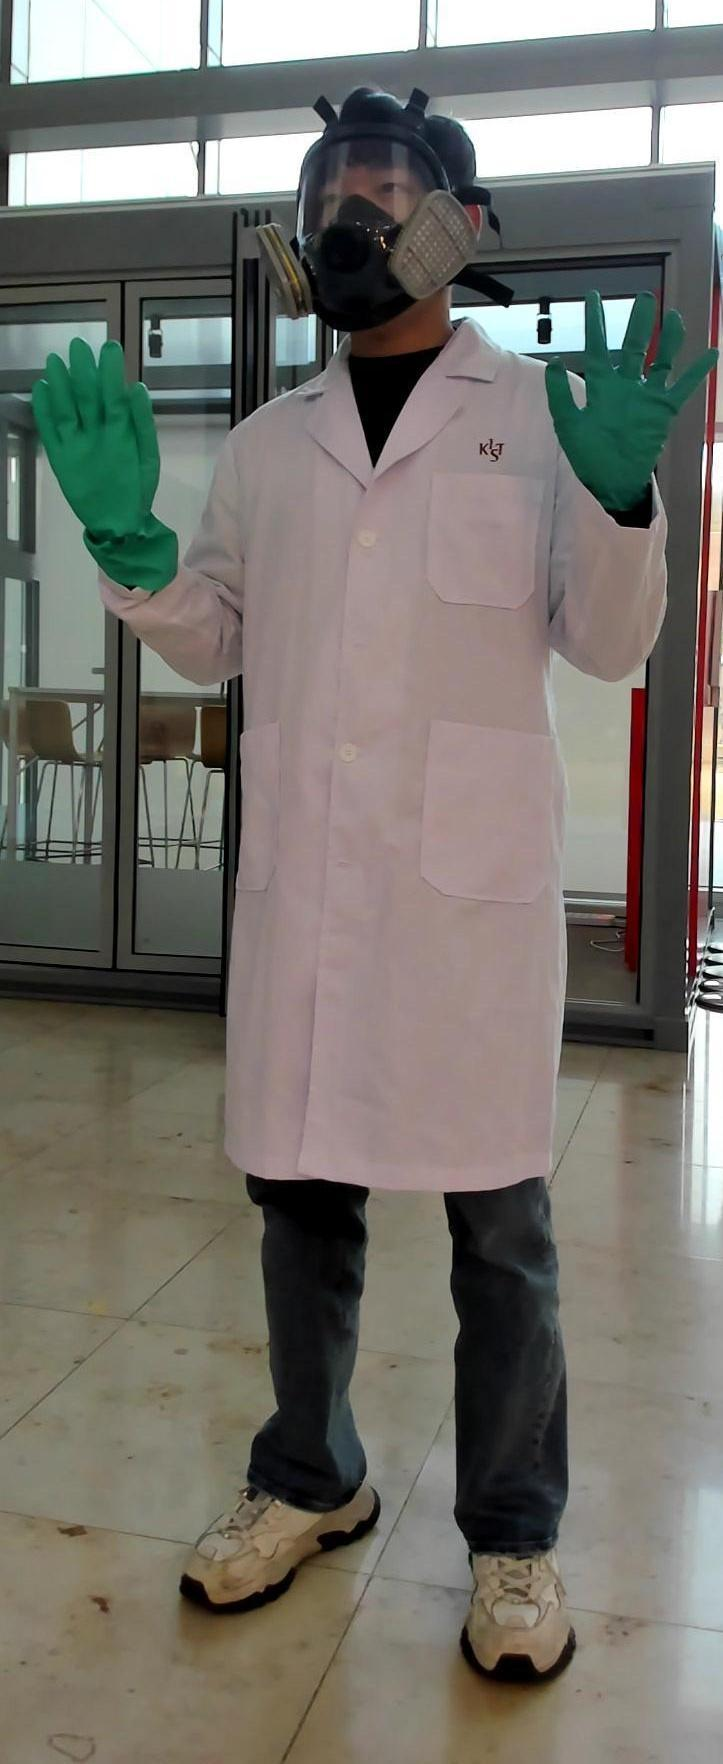lab_coat: (209, 382, 582, 1194)
